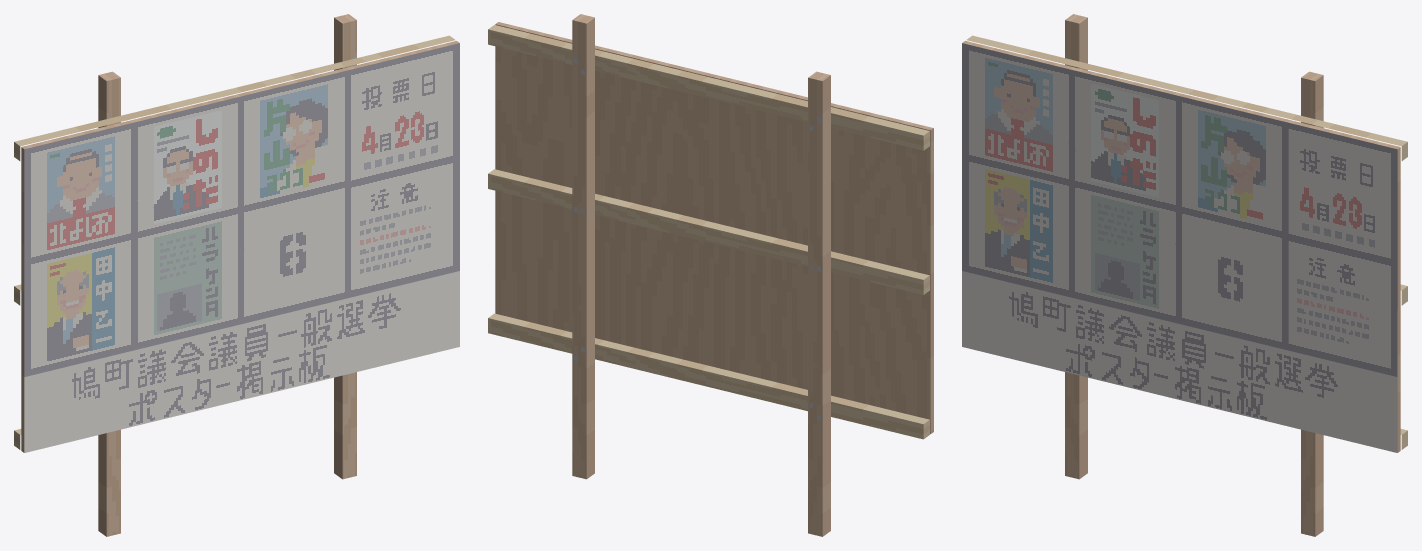
The model's file is 0283_Election_Posters.glb.
The picture shows the model from 3 angles, left to right: view 1: azimuth 30°, elevation 25°; view 2: azimuth 150°, elevation 25°; view 3: azimuth 330°, elevation 25°; orthographic projection.
Visible parts, largest first — view 1: part_0; view 2: part_0; view 3: part_0.
Part boxes in pixels (x1,y1,x2,y2): part_0: (14,14,459,536); part_0: (488,14,933,536); part_0: (962,14,1407,536).
Bounding box in the file's own units: 2.64 × 2.64 × 0.1962.
Materials: 1 (1 with a texture image).
